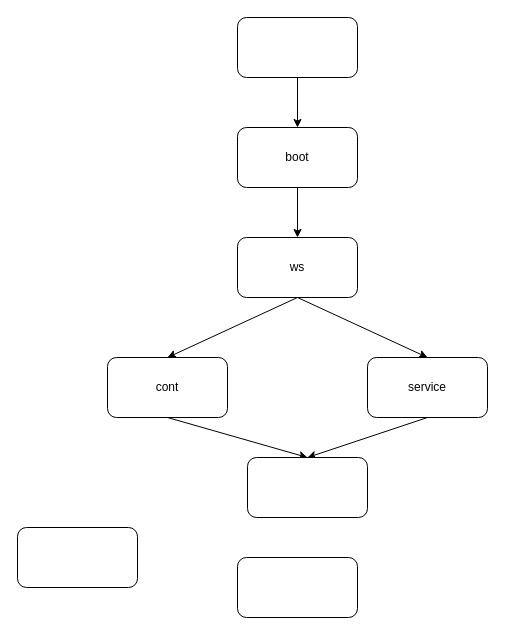
Image size: 505x635. Some labels were removed from this diagram. Each missing label, with the centre of its shape:
main: the point at 297,47
server: the point at 307,487
